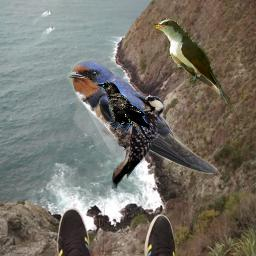Crow: (94, 81, 153, 141)
Cuckoo: (153, 17, 237, 113)
Swallow: (67, 59, 219, 174)
Woodpecker: (109, 93, 171, 192)
